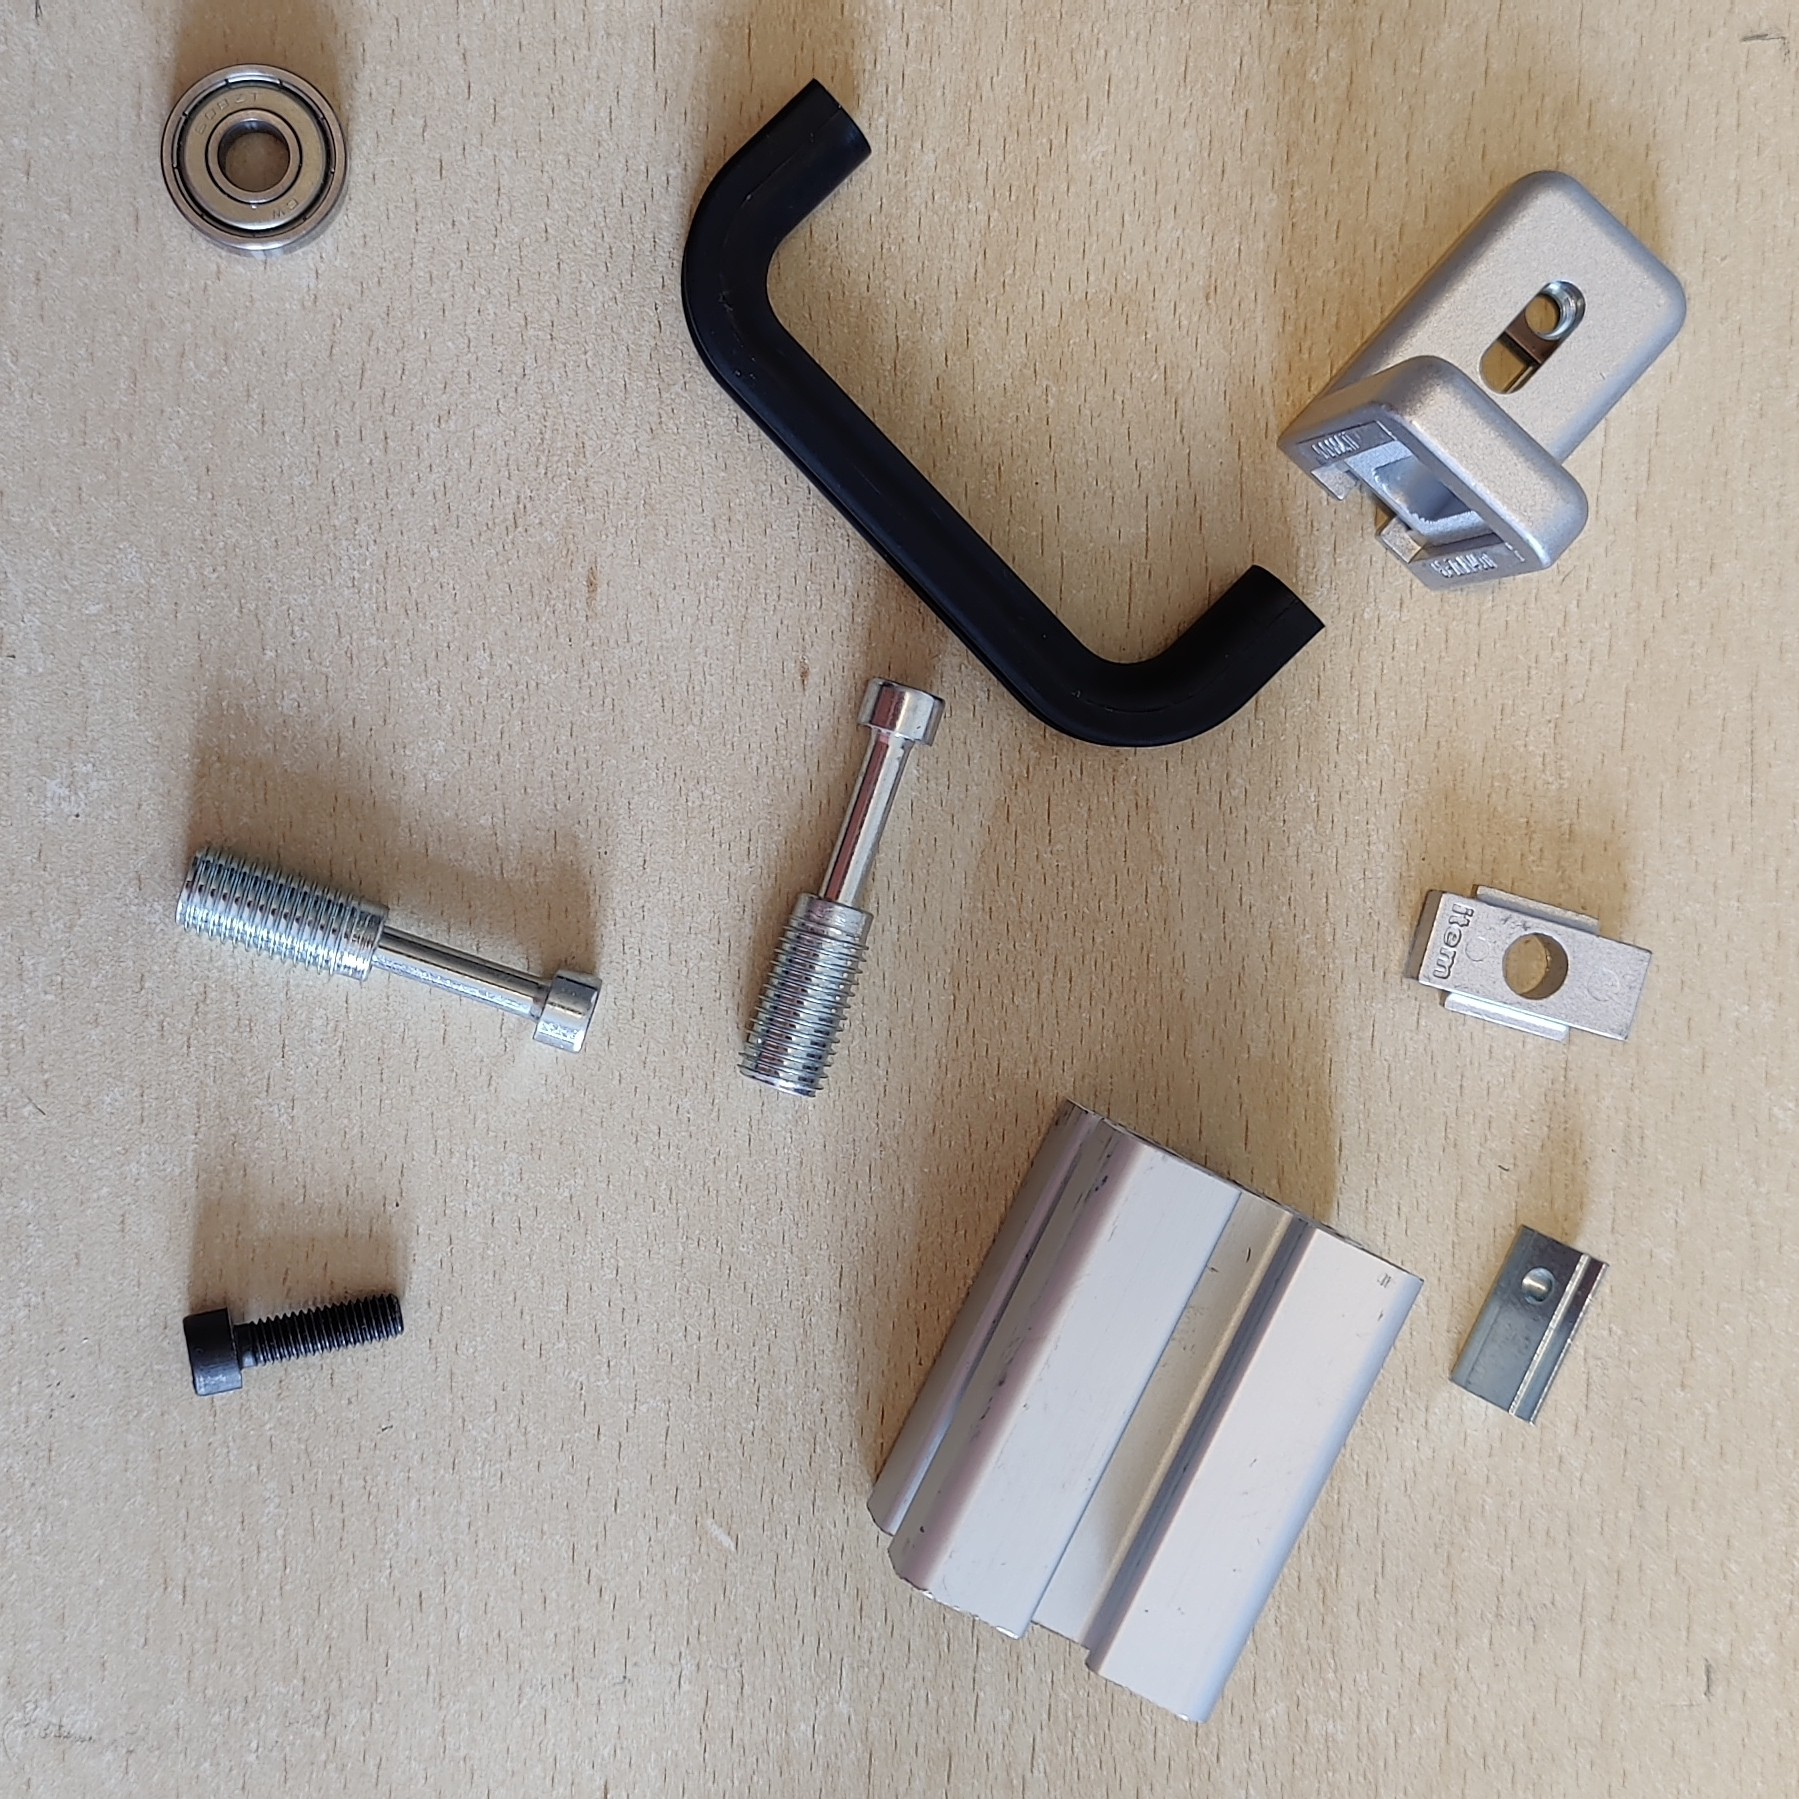Aluminium Extension: (867, 1096, 1422, 1727)
Ball Bearing: (157, 63, 351, 260)
Multiwinkel: (1273, 166, 1689, 593)
Pull Handle: (677, 71, 1326, 751)
Shoulder Socket Head Cap Screw: (168, 835, 605, 1056), (735, 671, 946, 1100)
Socket Head Cap Screw: (181, 1283, 405, 1402)
T Nut Square: (1399, 878, 1657, 1048)
T Spring Nut: (1445, 1221, 1611, 1427)
